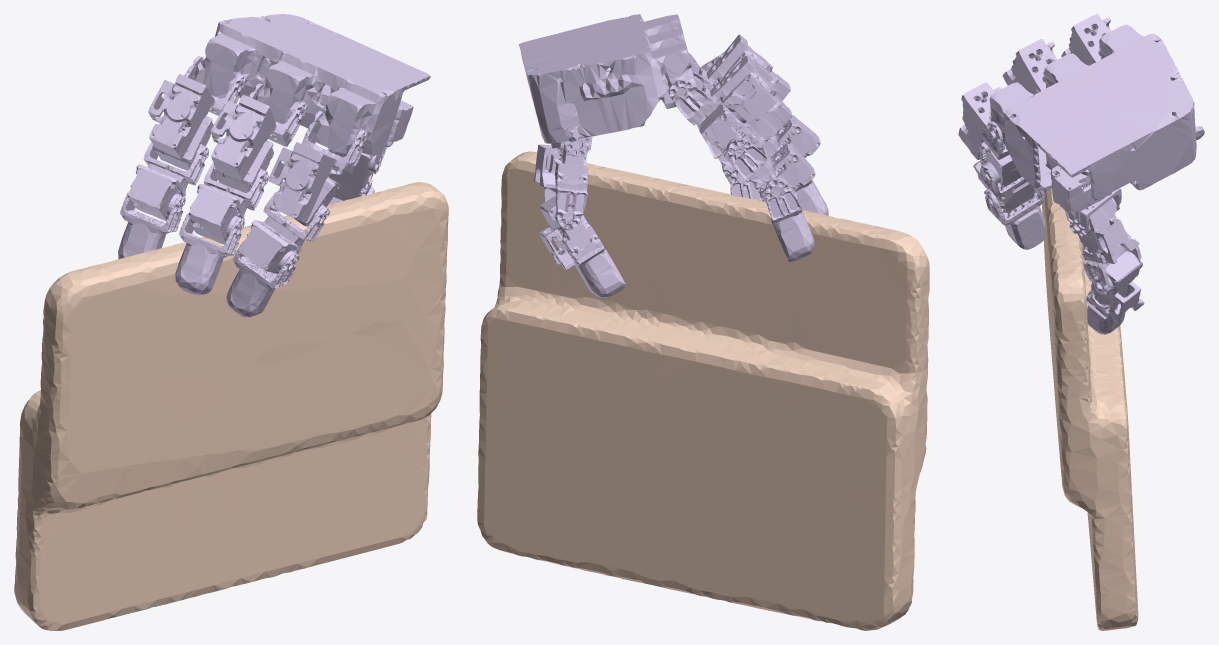
The model's file is 2a2b4ecc6fbaa7-closed.glb.
The picture shows the model from 3 angles, left to right: view 1: azimuth 30°, elevation 25°; view 2: azimuth 150°, elevation 25°; view 3: azimuth 270°, elevation 25°; orthographic projection. The views are drawn at different scales.
Visible parts, largest first — view 1: world, LEAP_hand; view 2: world, LEAP_hand; view 3: LEAP_hand, world.
Part boxes in pixels (x1,y1,x2,y2): world: [14, 182, 448, 630]; LEAP_hand: [118, 14, 430, 317]; world: [477, 151, 929, 630]; LEAP_hand: [518, 14, 828, 297]; LEAP_hand: [958, 14, 1204, 334]; world: [1042, 188, 1138, 630].
Bounding box in the file's own units: 0.3051 × 0.3842 × 0.1645.
